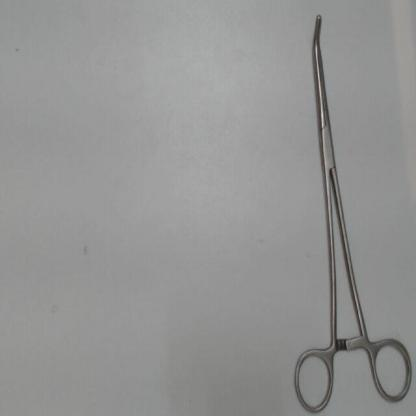Lahey Forceps: (289, 9, 415, 412)
